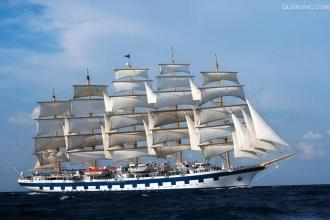fanchuan: (14, 42, 299, 196)
